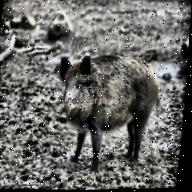boar: (35, 37, 187, 168)
